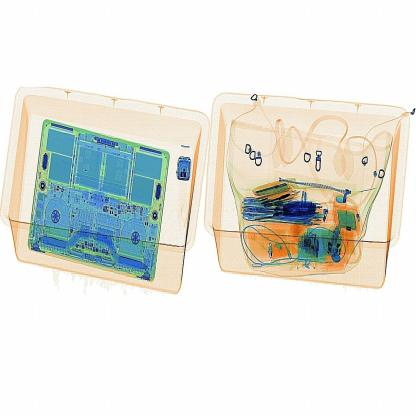scissors: (277, 196, 323, 225)
